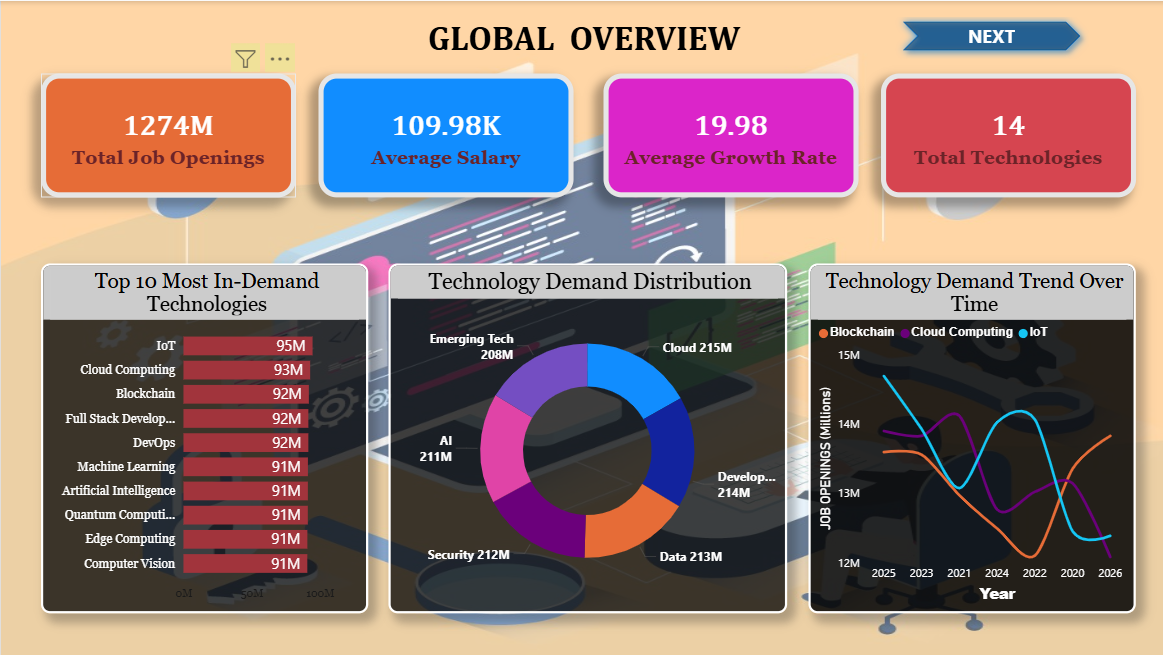

The dashboard page shown, as its layout file describes it:
{"tool":"powerbi","page":{"name":"Page 2","canvas":[1280,720],"ordinal":1},"visuals":[{"type":"card","fields":{"Values":["TechData.Average Salary"]},"box":[348.5,79.6,279.9,135.8],"z":0},{"type":"card","fields":{"Values":["TechData.Total Technologies"]},"box":[966,79.6,279.9,135.8],"z":1000},{"type":"card","fields":{"Values":["TechData.Average Growth Rate"]},"box":[661.4,79.6,279.9,135.8],"z":2000},{"type":"card","fields":{"Values":["TechData.Total Job Openings"]},"box":[43.9,79.6,279.9,135.8],"z":3000},{"type":"textbox","box":[0,13.7,1280.3,53.5],"z":4000},{"type":"clusteredBarChart","title":"Top 10 Most In-Demand Technologies","fields":{"Category":["TechData.Technology_Name"],"Y":["Sum(TechData.Job_Openings_Count)"]},"box":[43.9,288.2,359.5,384.2],"z":5000},{"type":"donutChart","title":"Technology Demand Distribution","fields":{"Category":["TechData.Category"],"Y":["Sum(TechData.Job_Openings_Count)"]},"box":[425.4,288.2,437.7,384.2],"z":6000},{"type":"lineChart","title":"Technology Demand Trend Over Time","fields":{"Category":["TechData.Year"],"Y":["Sum(TechData.Job_Openings_Count)"],"Series":["TechData.Technology_Name"]},"box":[886.5,288.2,359.5,384.2],"z":7000},{"type":"shape","box":[981.1,13.7,212.7,49.4],"z":8000}]}

Visuals, with their boxes in screenshot pixels (x1, y1, x2, y2), scaled from the page's 1280x720 canvas onto the 1163x655 screenshot:
card - TechData.Average Salary: [317,72,571,196]
card - TechData.Total Technologies: [878,72,1132,196]
card - TechData.Average Growth Rate: [601,72,855,196]
card - TechData.Total Job Openings: [40,72,294,196]
textbox: [0,12,1162,61]
"Top 10 Most In-Demand Technologies" clusteredBarChart: [40,262,367,612]
"Technology Demand Distribution" donutChart: [387,262,784,612]
"Technology Demand Trend Over Time" lineChart: [805,262,1132,612]
shape: [891,12,1085,57]
